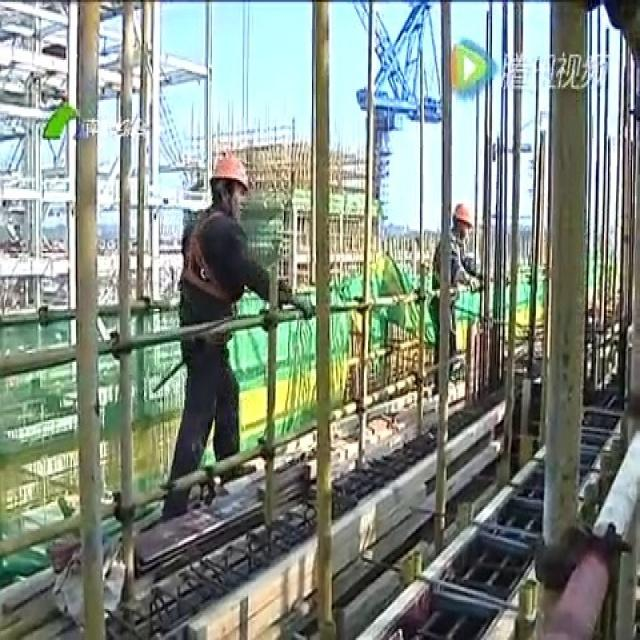helmet: (207, 204, 250, 289), (450, 261, 473, 312)
